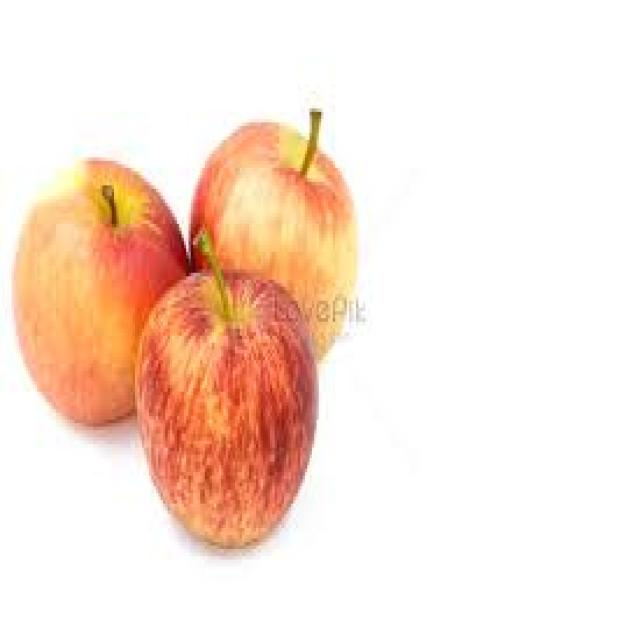non_orange: (174, 100, 398, 391), (0, 127, 189, 451), (110, 251, 328, 531)
